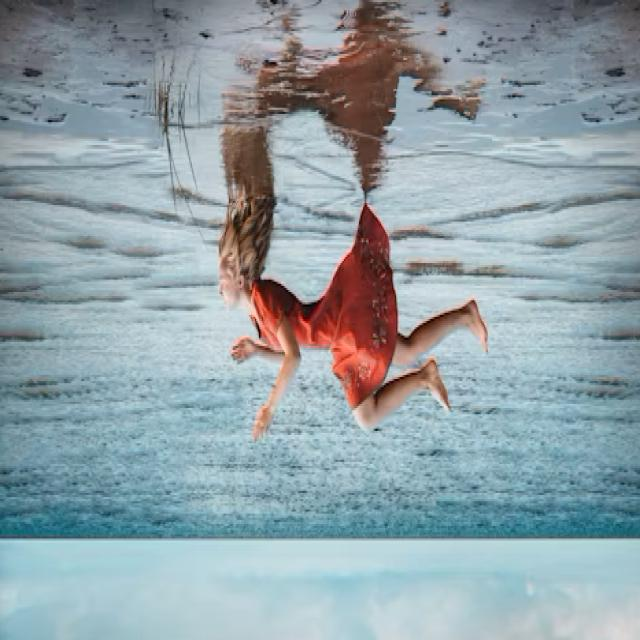Edited images: (199, 188, 501, 454)
